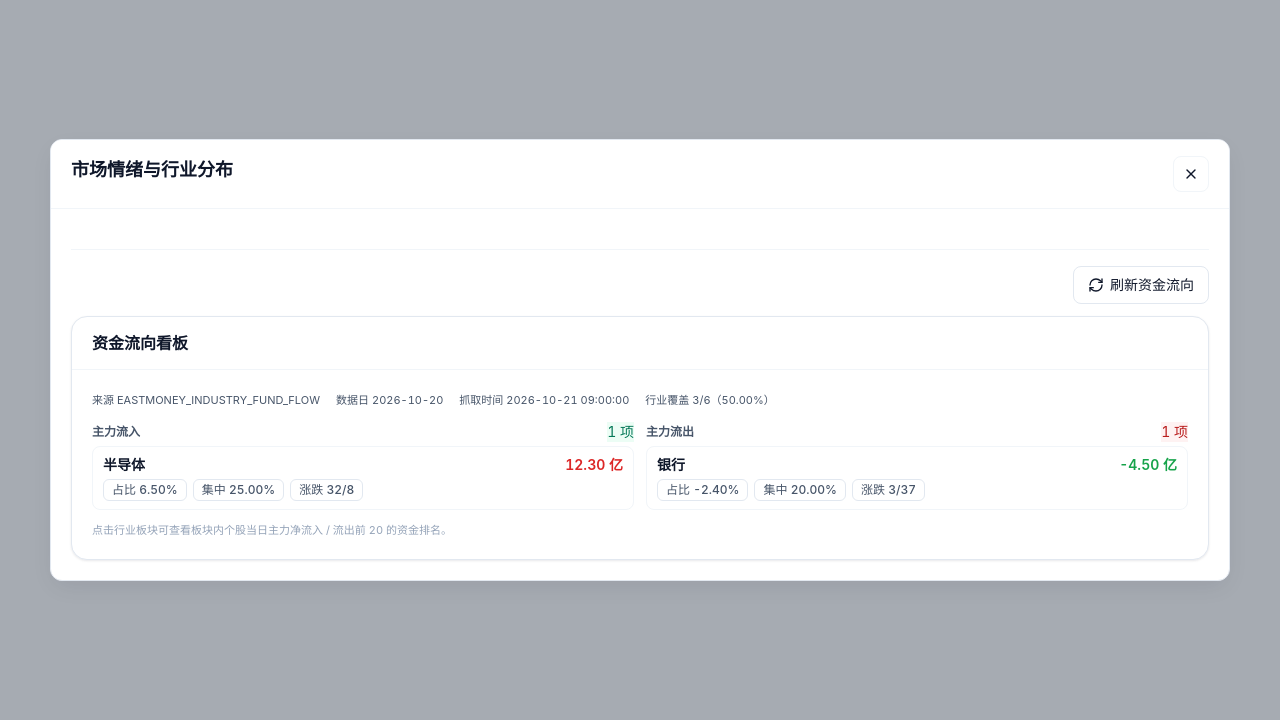
Test case: MarketFundFlowPanel › preserves the last snapshot when the API returns an unavailable result with HTTP 200
The width and height of the screenshot is (1280, 720).
Step 1. Click the button "刷新资金流向" → coordinates (1141, 285), box [1073,266,1209,304]
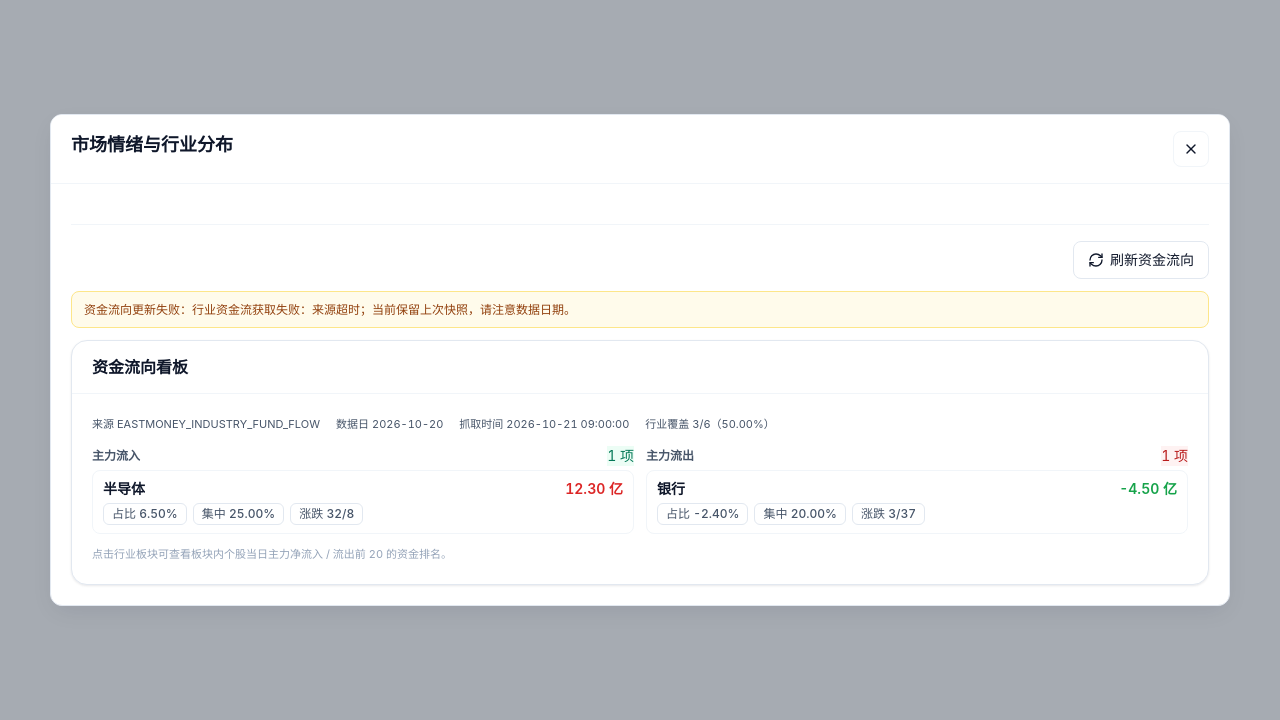
Expected: the text "资金流向更新失败" is shown, [84,302,192,317]
Expected: the text "来源超时" is shown, [192,302,360,317]
Expected: the text "当前保留上次快照" is shown, [360,302,576,317]
